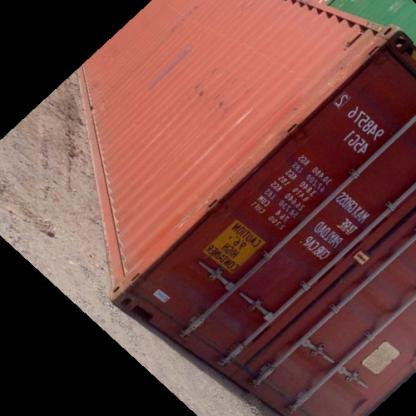Damage: (146, 35, 192, 92), (194, 82, 230, 110)
